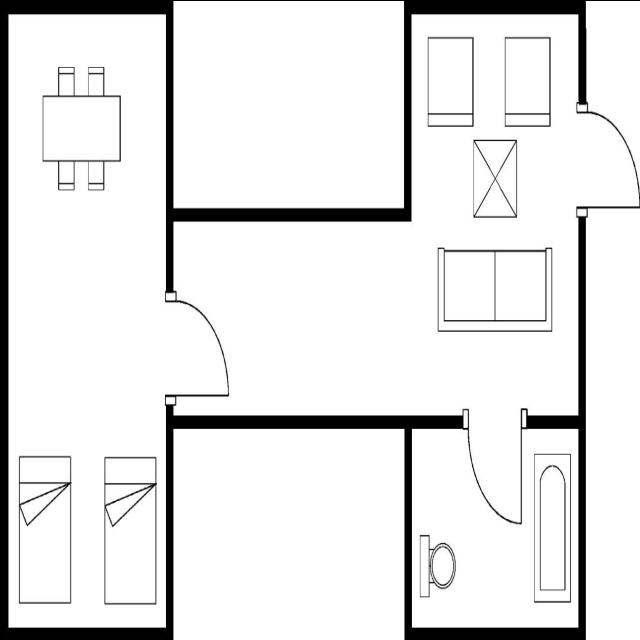bed: (16, 448, 74, 608), (102, 452, 158, 612)
coffee_table: (471, 134, 518, 222)
dining_table: (39, 60, 123, 196)
large_sink: (417, 528, 458, 600)
large_sofa: (435, 242, 555, 337)
small_sofa: (502, 33, 553, 132), (424, 34, 474, 130)
tub: (530, 448, 574, 608)
